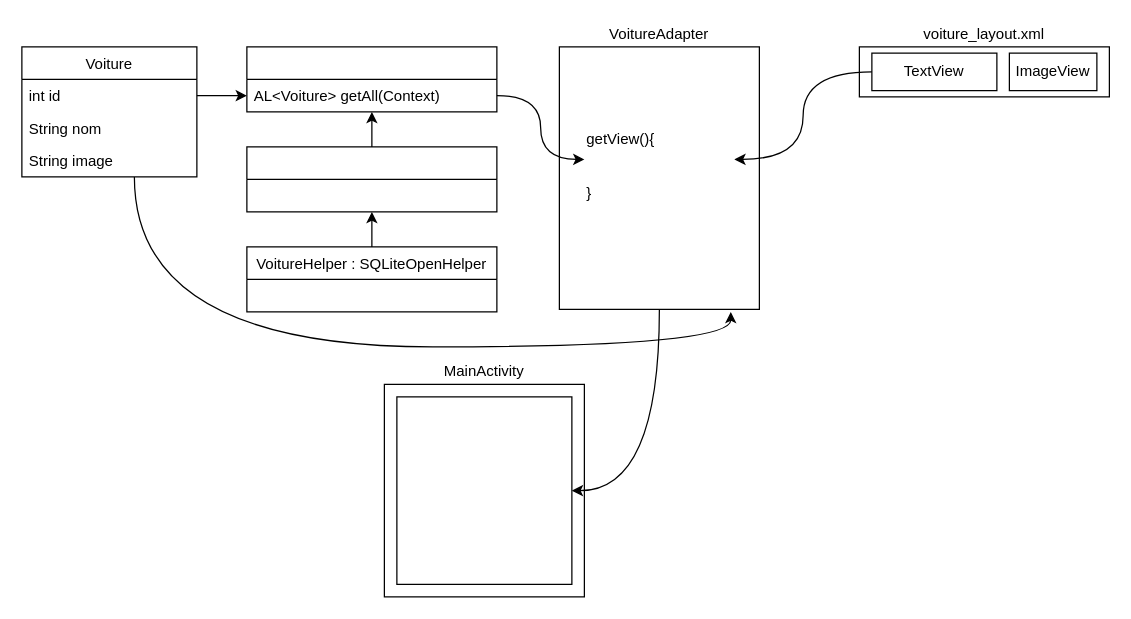
This 1131x619 diagram has some shape labels left out. Here are the shapes that lost their labels. From the top down, the box of each, then its label:
(246, 46, 497, 112): VoitureManager
(246, 146, 497, 212): ConnexionDB
(396, 396, 572, 584): ListView
